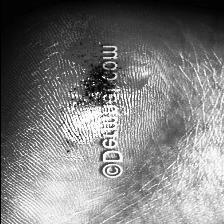Toxin: (74, 50, 99, 104)
